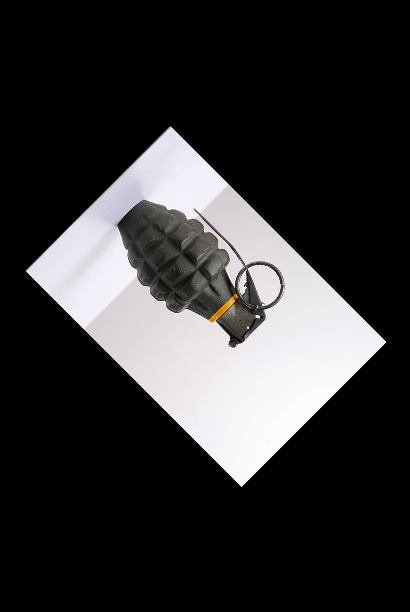e1: (117, 194, 288, 350)
